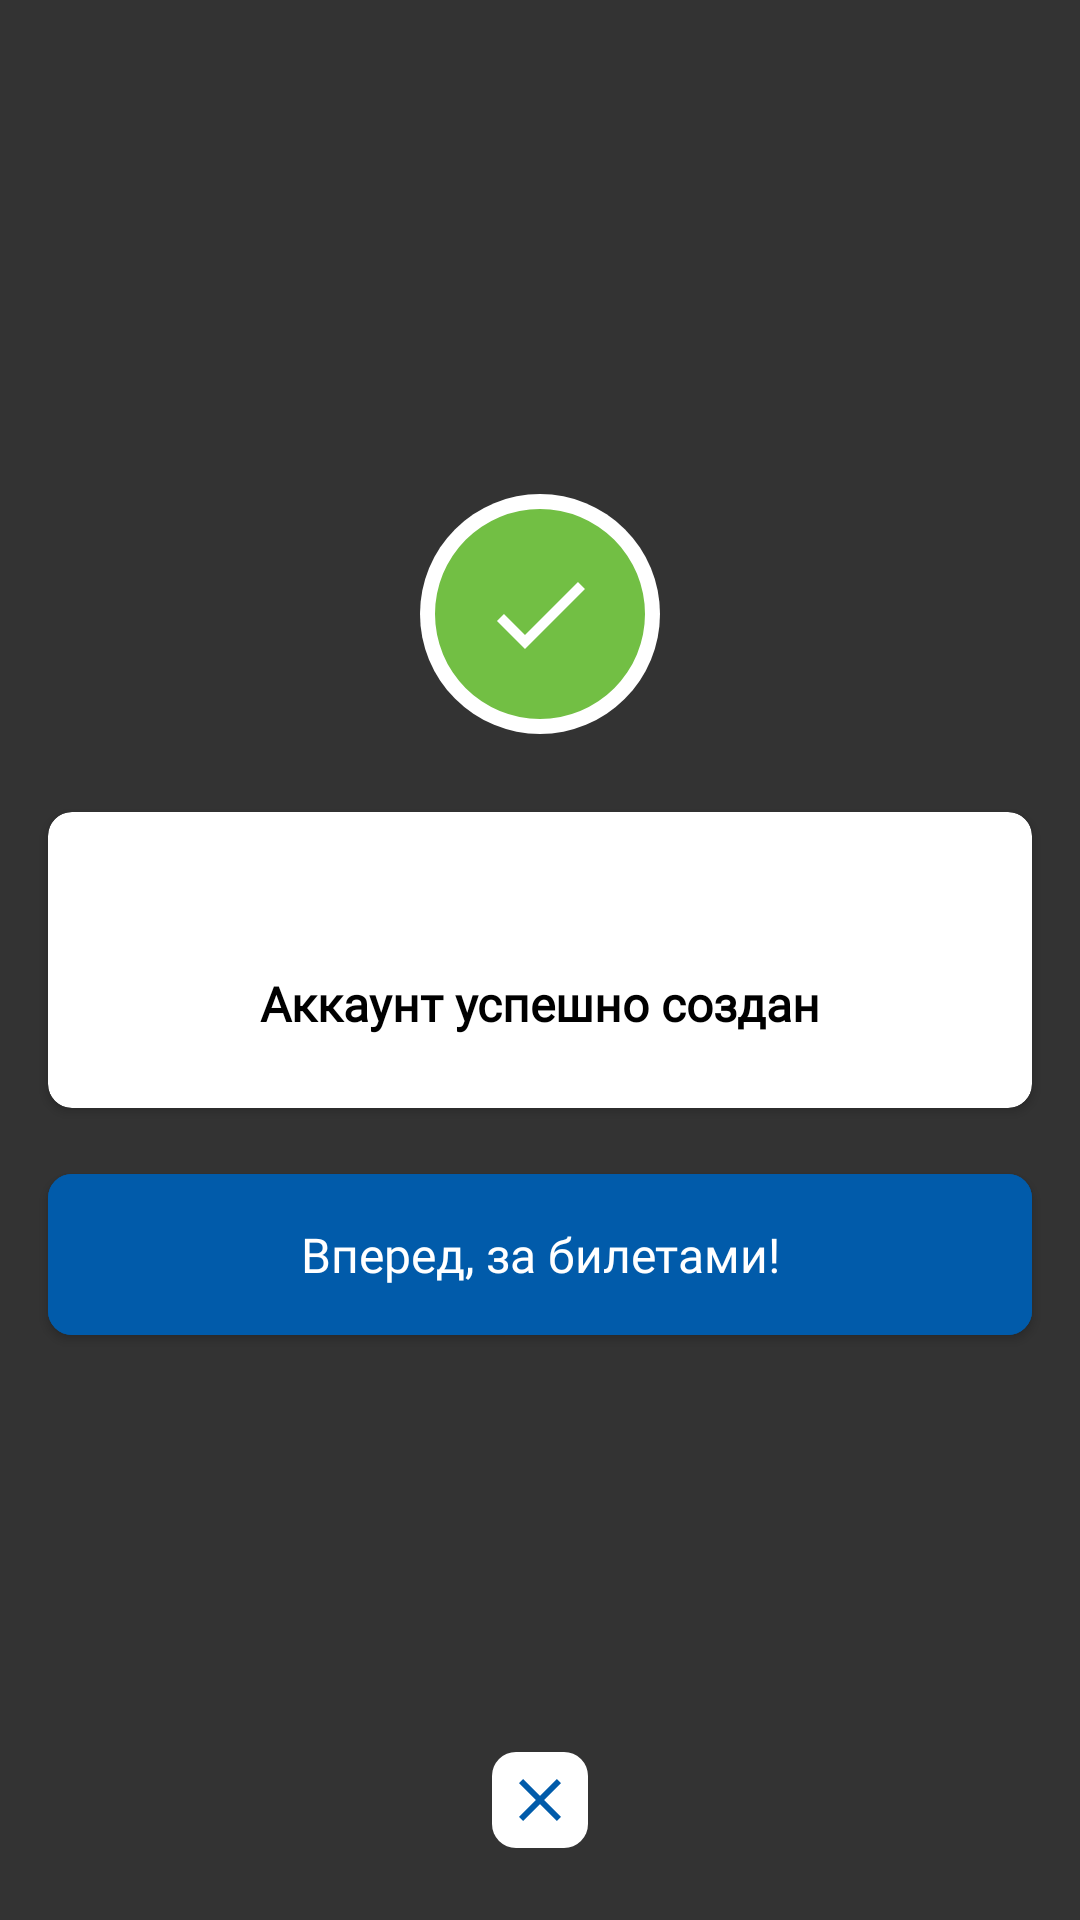

Icon bounding boxes for this 1080×1920 phone screenshot, format (x1, y1, x2, y2):
close in rect: (492, 1752, 588, 1848)
success sign up: (420, 494, 660, 734)
